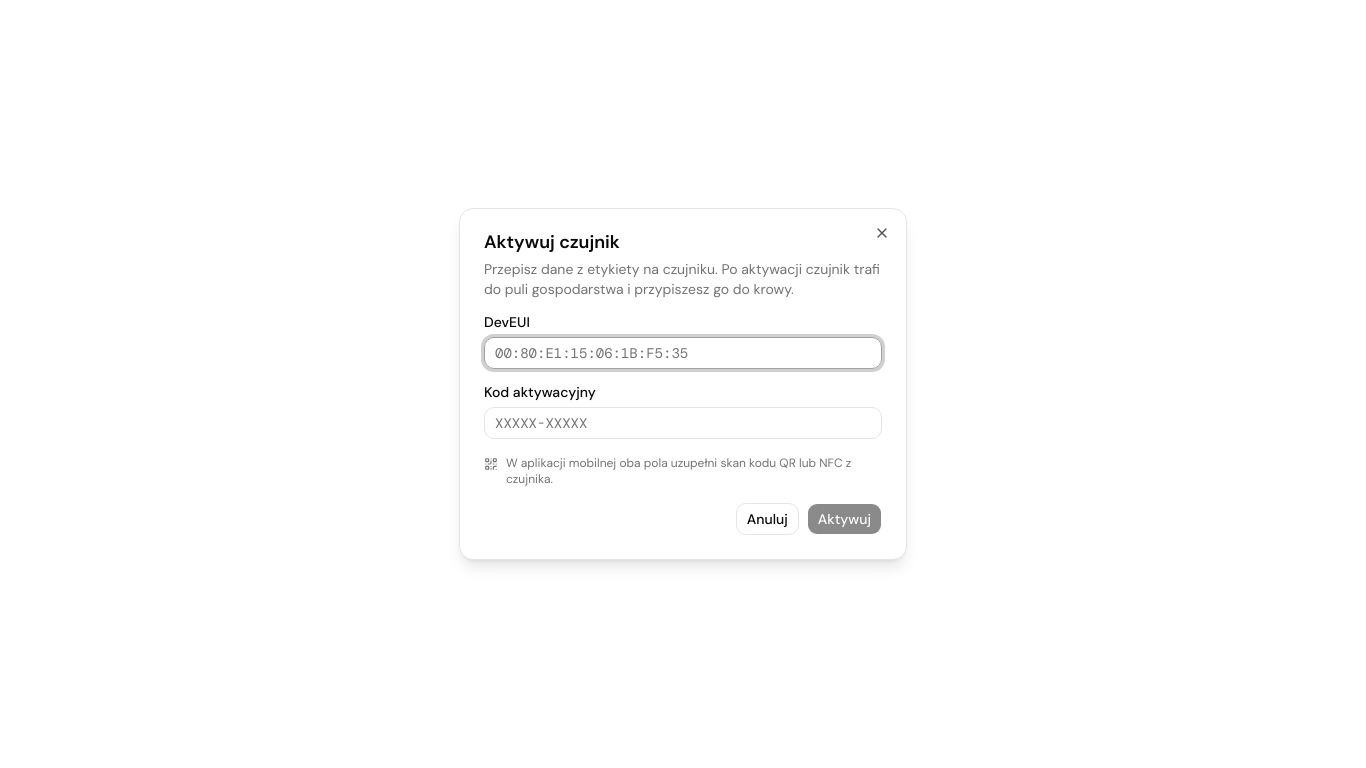
ActivateSensorDialog › pokazuje powód odmowy z backendu i zostawia dialog otwarty
Type "0080e115061bf535" into the field labelled "DevEUI" at [683, 353], box [484,337,882,369]
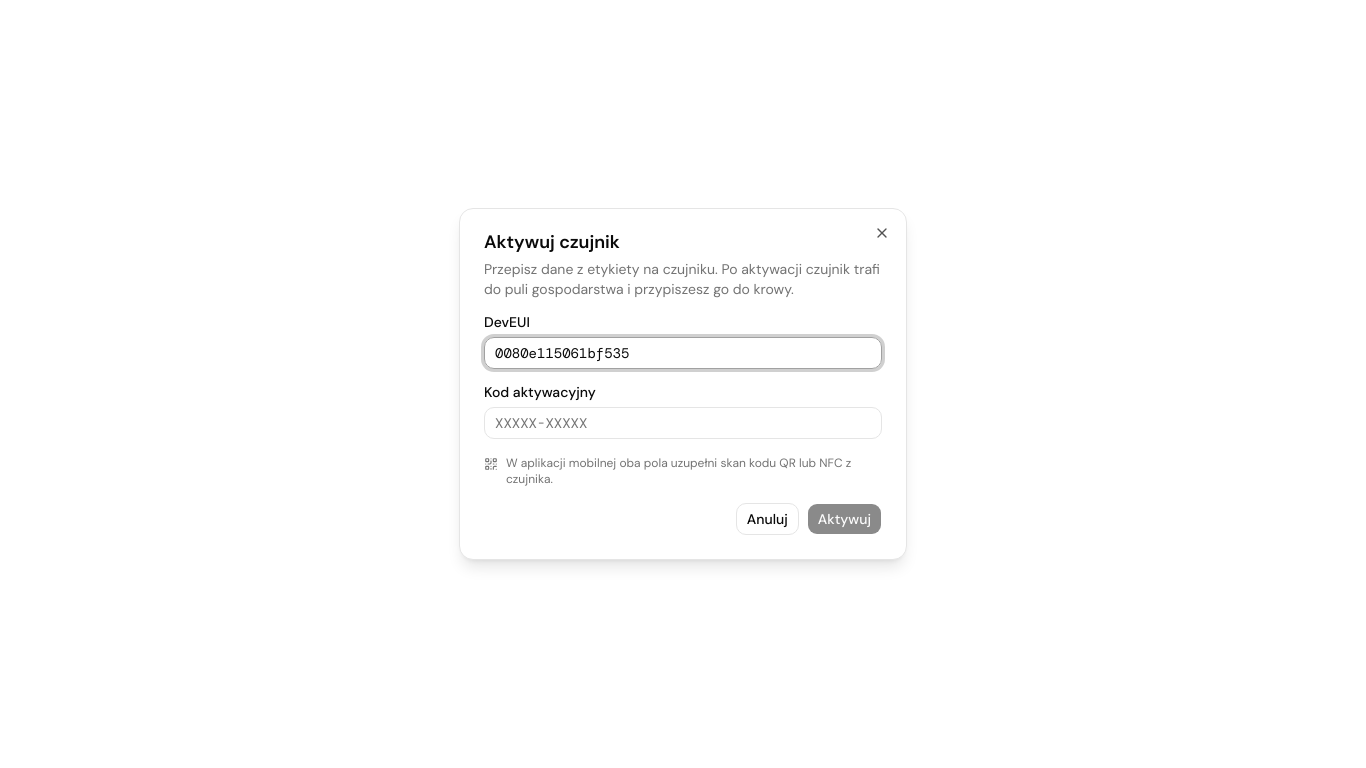
Type "7KQ4M-X2PDR" into the field labelled "Kod aktywacyjny" at [683, 423], box [484,407,882,439]
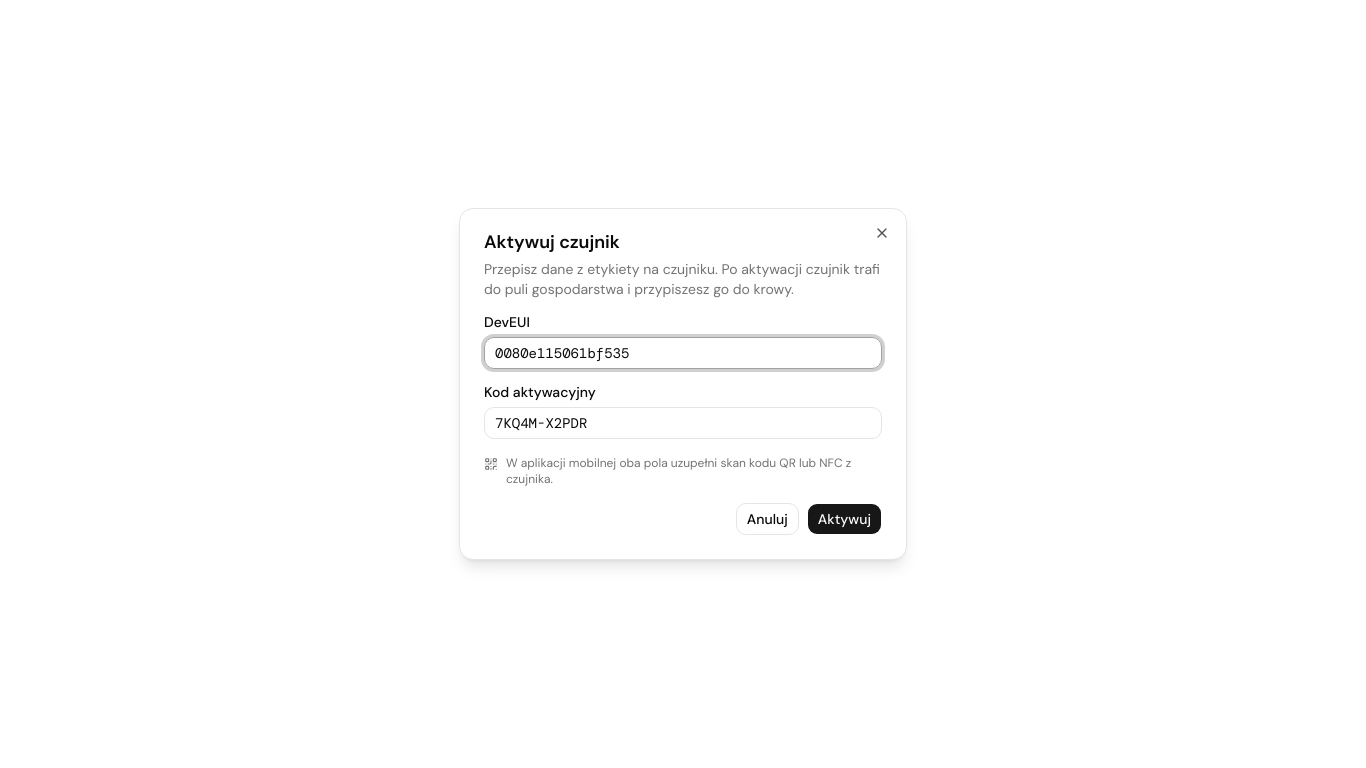
Click the button "Aktywuj" at [844, 519], box [807,503,882,535]
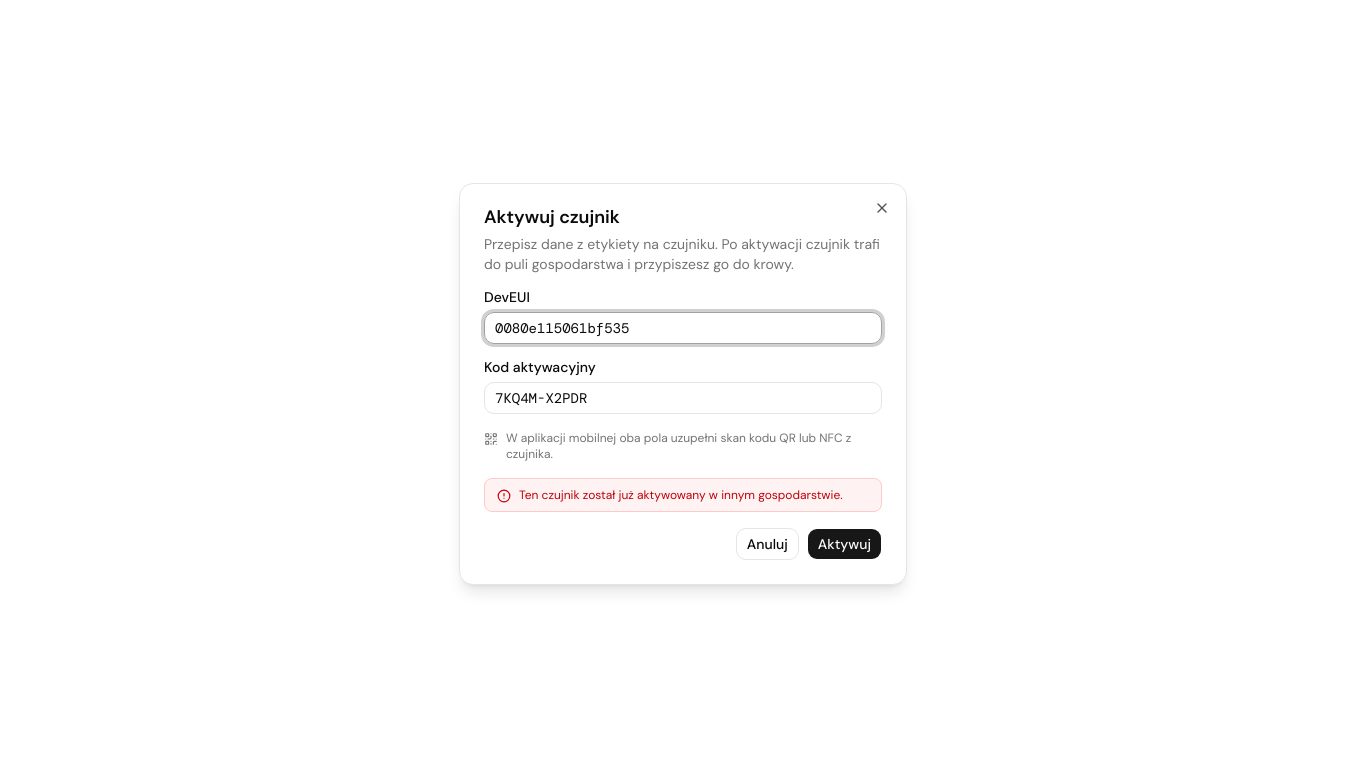
Now the button "Aktywuj" is enabled, box [807,528,882,560]
Now the message reads "Ten czujnik został już aktywowany w innym gospodarstwie.", box [519,487,843,503]
